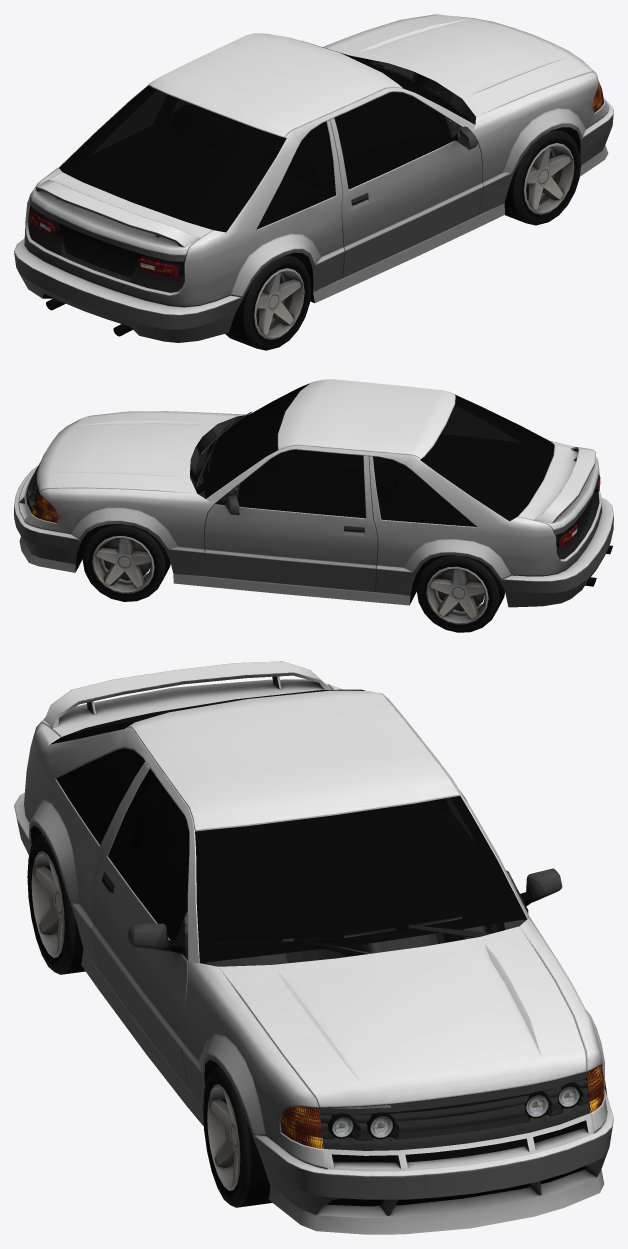
Rendered from coupe.glb.
The picture shows the model from 3 angles, top to bottom: view 1: azimuth 30°, elevation 25°; view 2: azimuth 150°, elevation 25°; view 3: azimuth 270°, elevation 25°; orthographic projection. The views are drawn at different scales.
Parts seen in each view (by area): view 1: Coupe Body, Wheel_F003, Wheel_F002; view 2: Coupe Body, Wheel_F001, Wheel_F; view 3: Coupe Body, Wheel_F002, Wheel_F003.
Part boxes in pixels (<box>): Coupe Body: <box>14,14,613,342</box>; Wheel_F003: <box>225,254,311,350</box>; Wheel_F002: <box>504,128,581,225</box>; Coupe Body: <box>14,379,613,607</box>; Wheel_F001: <box>416,555,504,632</box>; Wheel_F: <box>82,524,170,601</box>; Coupe Body: <box>14,661,613,1234</box>; Wheel_F002: <box>203,1066,272,1207</box>; Wheel_F003: <box>27,833,85,974</box>.
Size of the model in its own units: 4.2 by 1.28 by 2.5.
4 materials, 3 textured.
